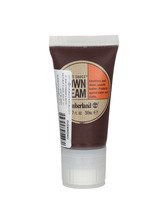other: (43, 27, 119, 197)
